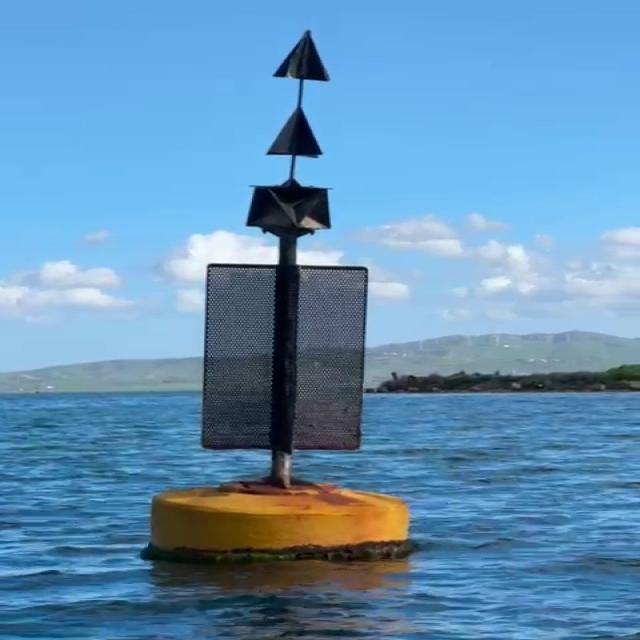marque: (142, 25, 415, 560)
